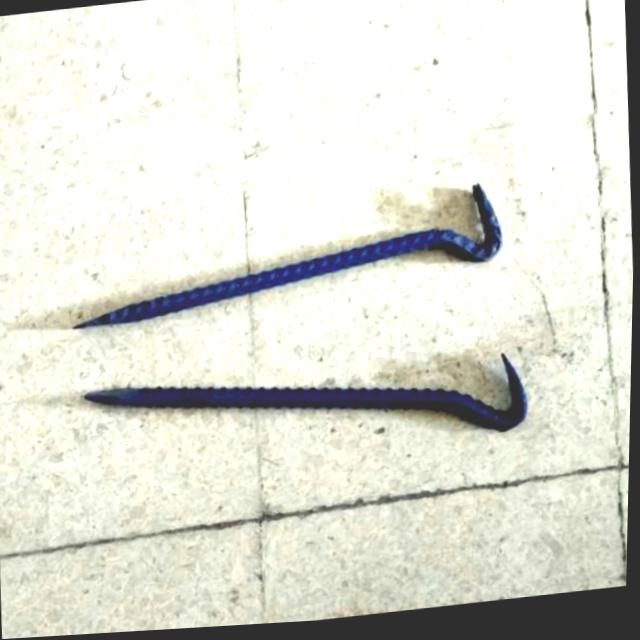crow bar: (52, 175, 526, 351), (73, 338, 553, 486)
